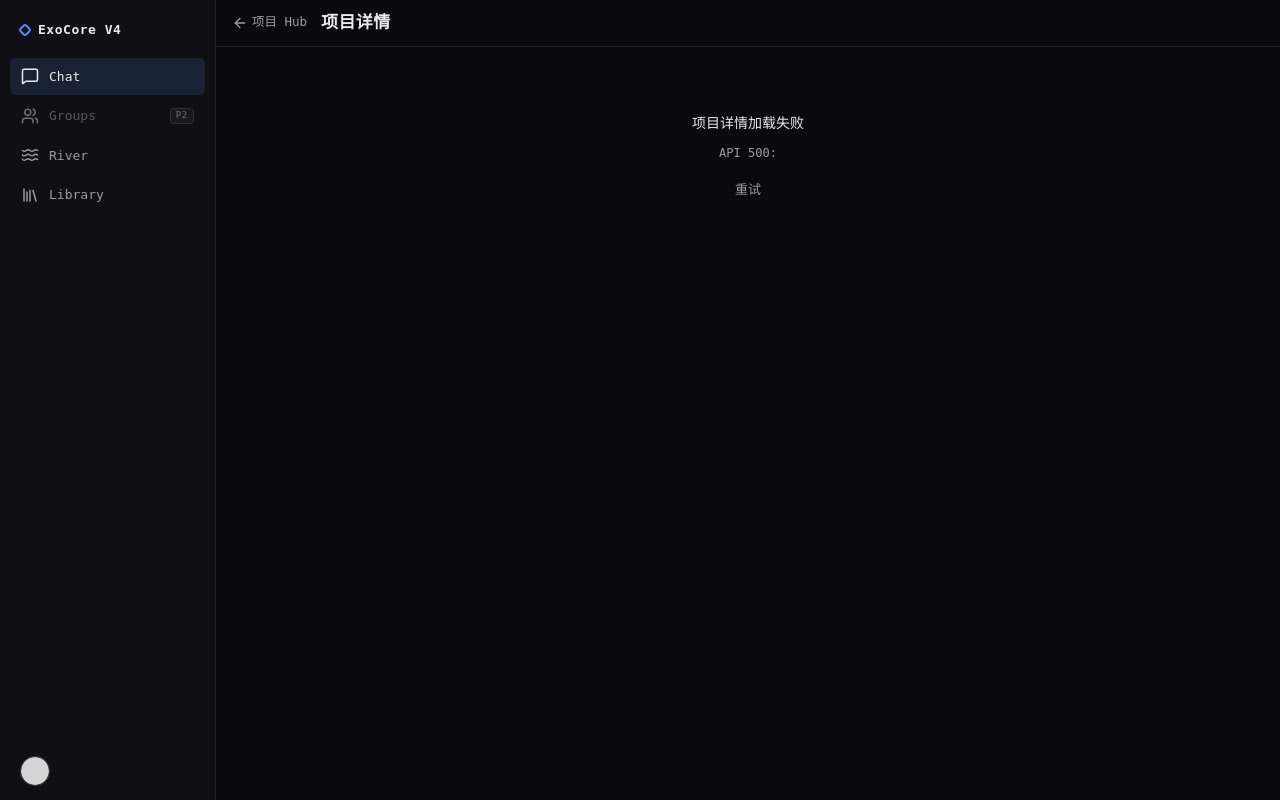
Test: P2B Project Detail states › network failure is distinct and retry recovers
Expected: the text "项目详情加载失败" is shown, [692,112,804,134]
Click the button "重试" at (748, 189), box [720,172,776,207]
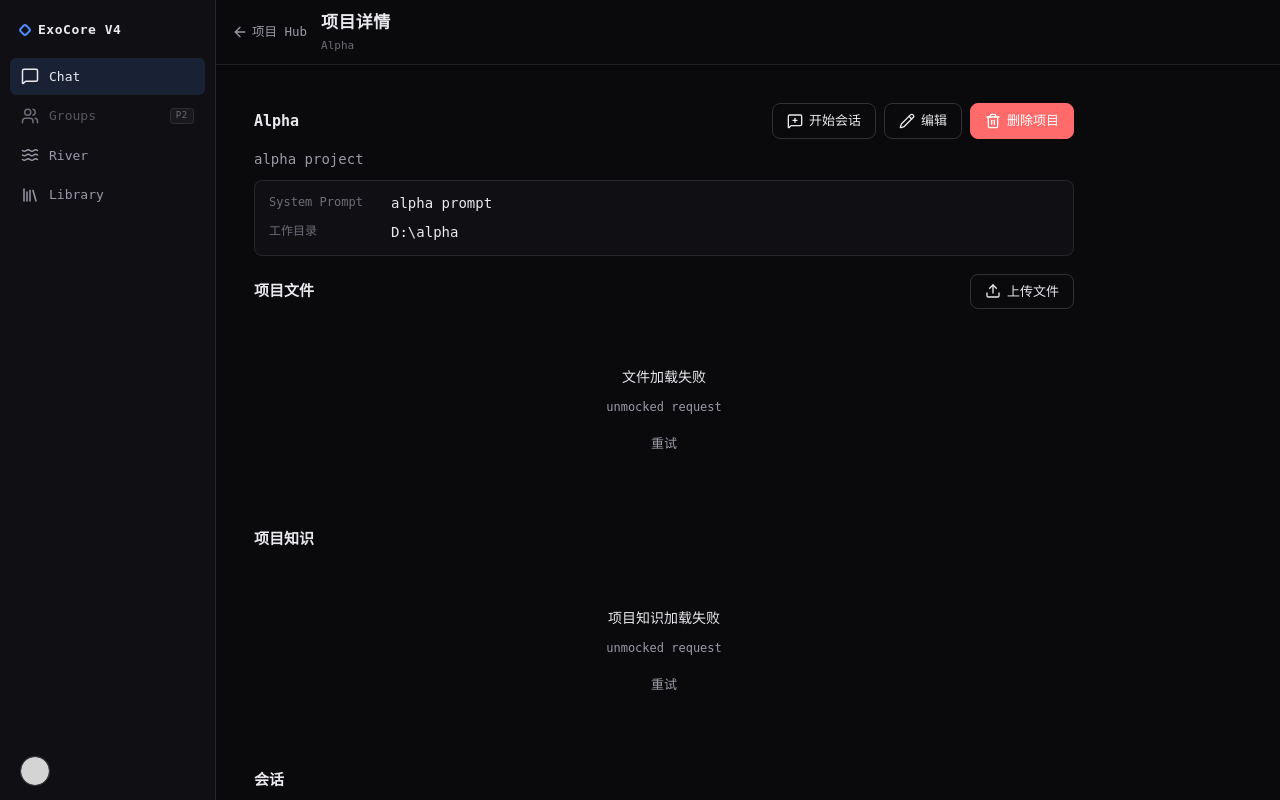
Expected: the heading "Alpha" is shown, [254,110,299,132]
